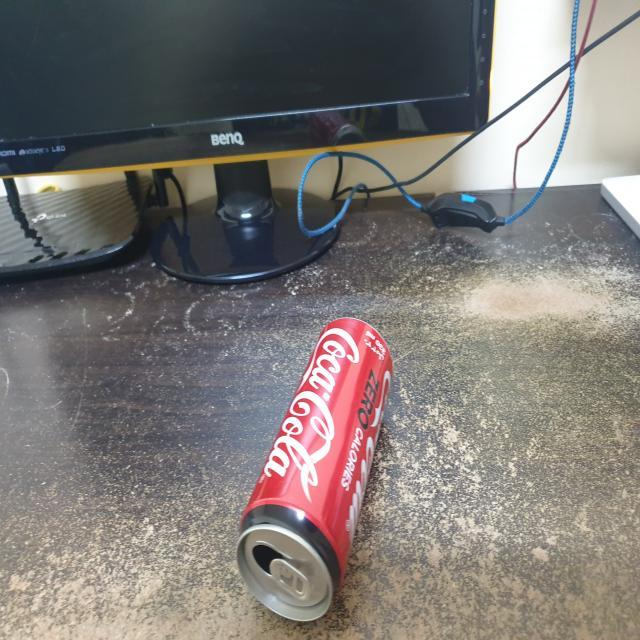can: (226, 306, 398, 624)
